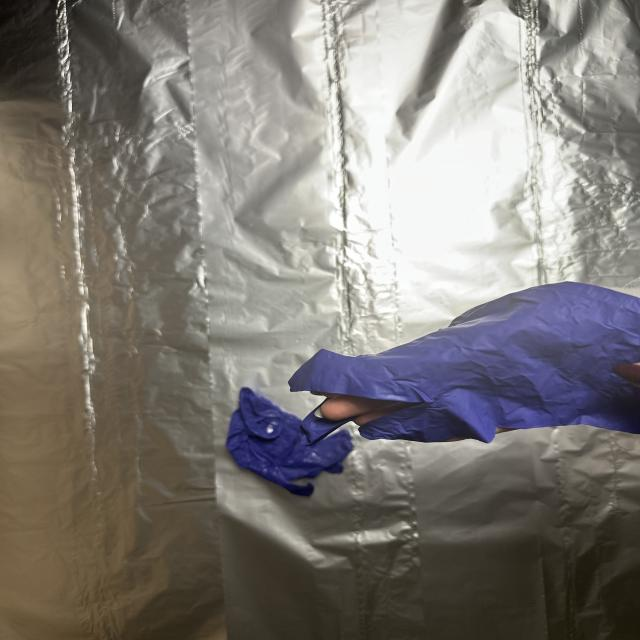glove_not_fitted: (299, 272, 640, 465)
